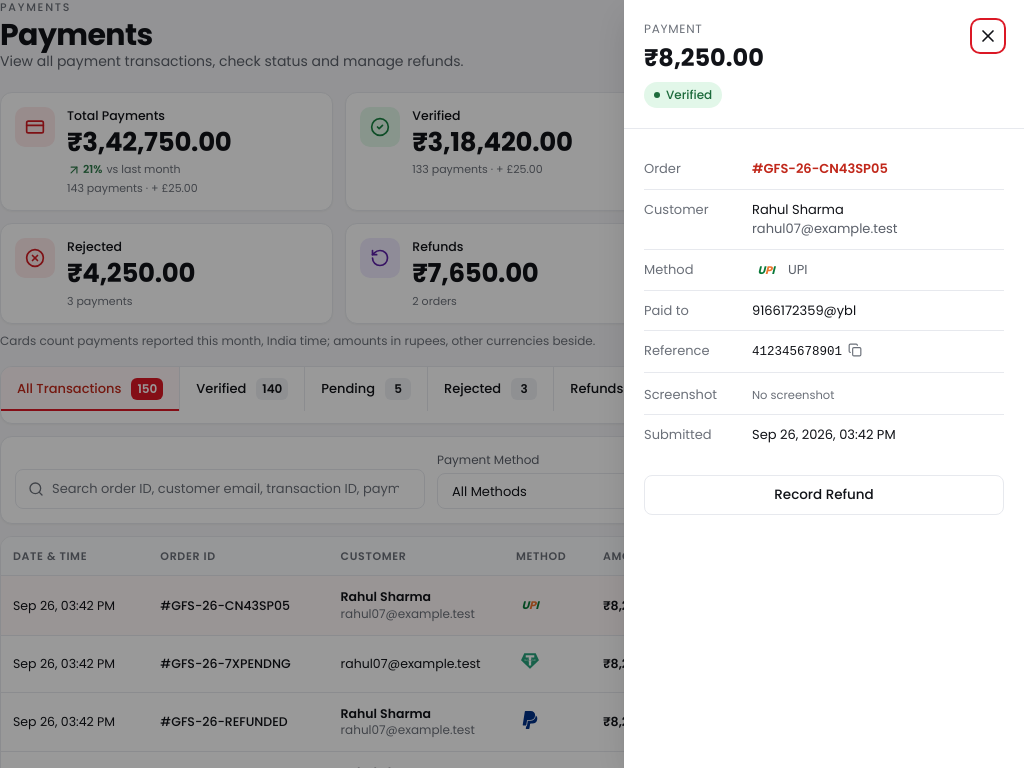
Payments page › records a refund for the full total, after saying what it does
The image size is (1024, 768).
Click the button "Record Refund": (824,495) [644, 475, 1004, 515]
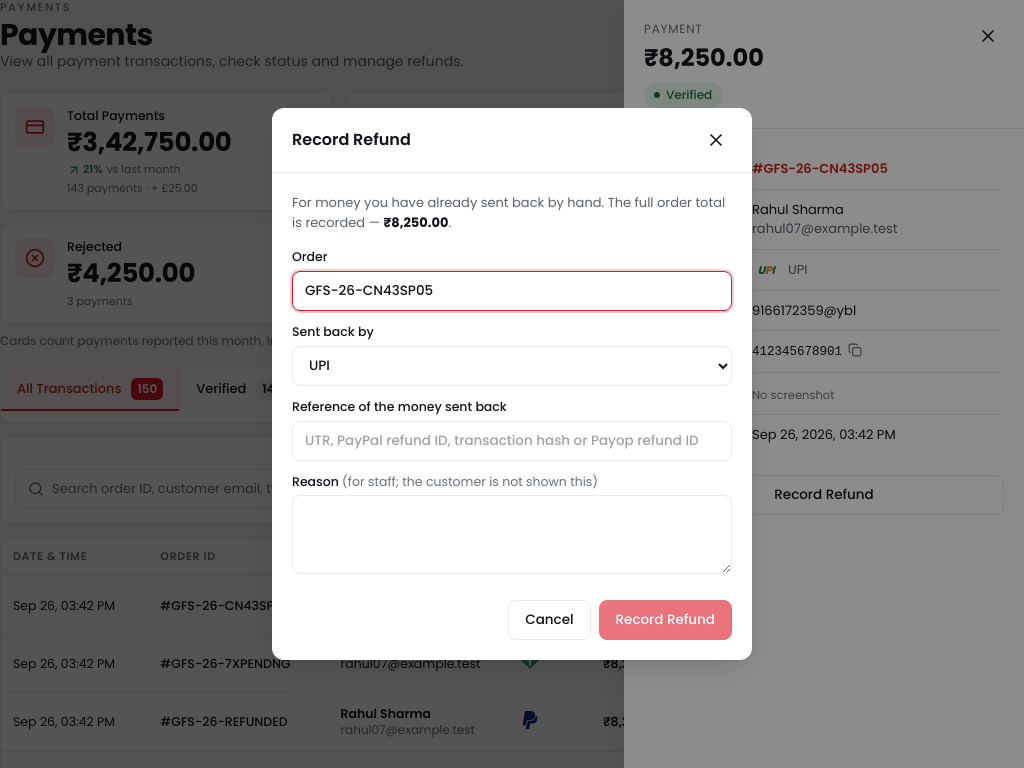
Now the field labelled "Order" holds "GFS-26-CN43SP05", box [292, 271, 732, 311]
In the field labelled "Reference of the money sent back": (512,440) [292, 420, 732, 460], type "UTR-BACK-1"
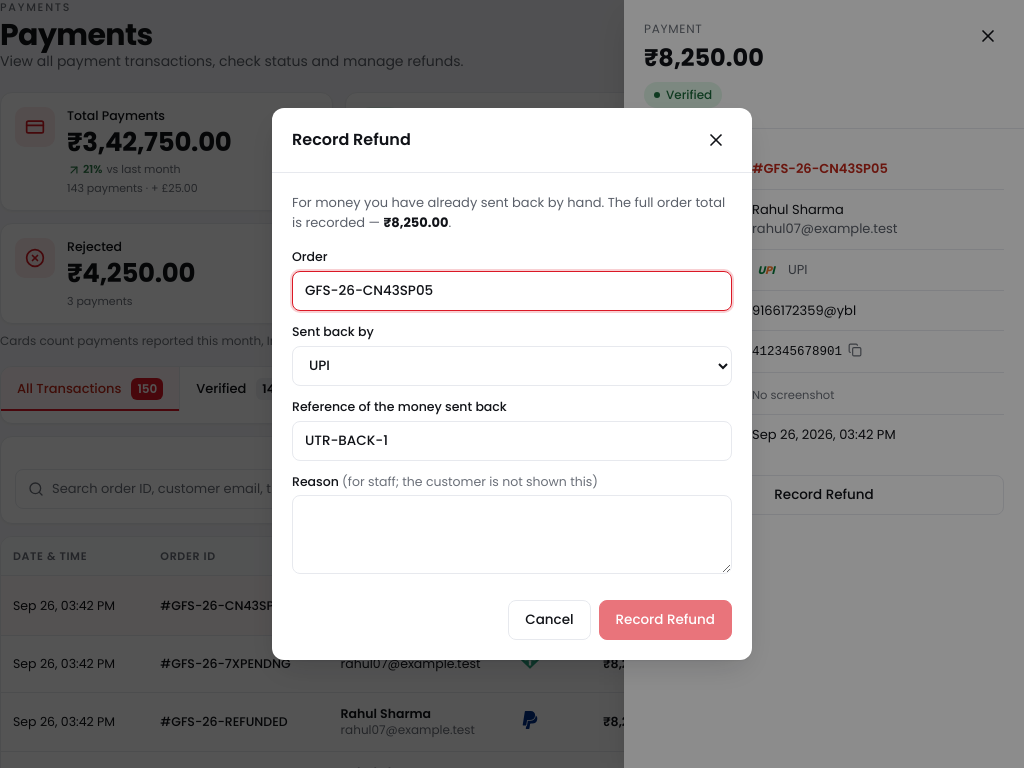
In the text box labelled "Reason (for staff; the customer is not shown this)": (512,535) [292, 495, 732, 574], type "Could not deliver"
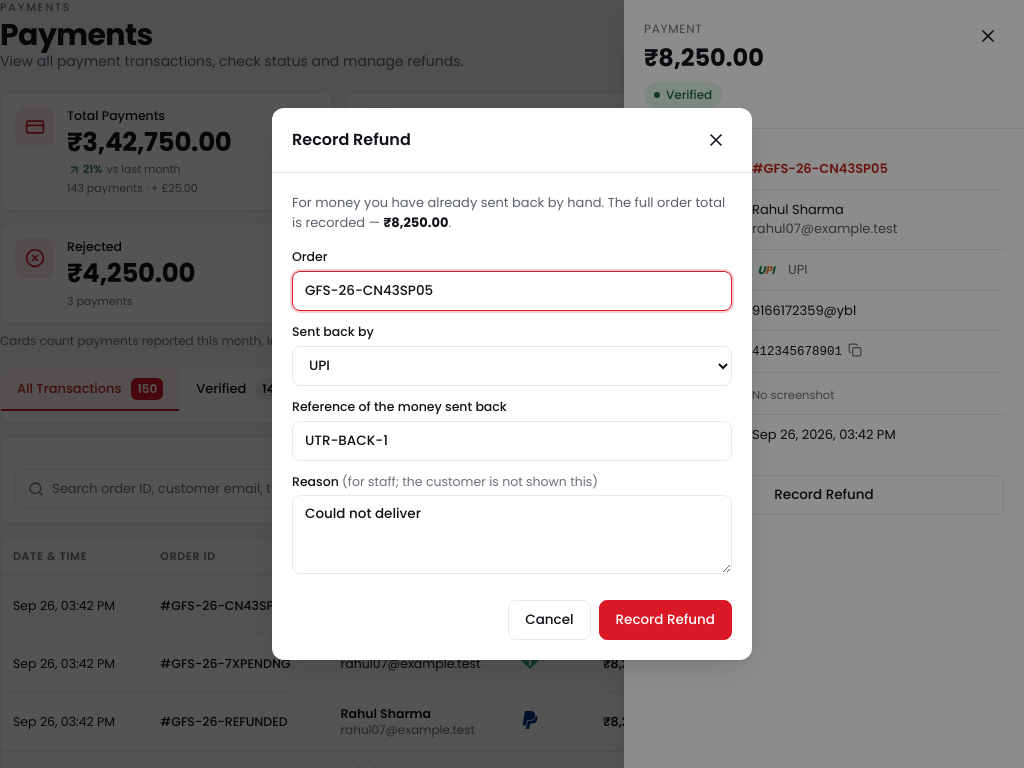
Click the button "Record Refund": (665,620) [598, 600, 732, 640]
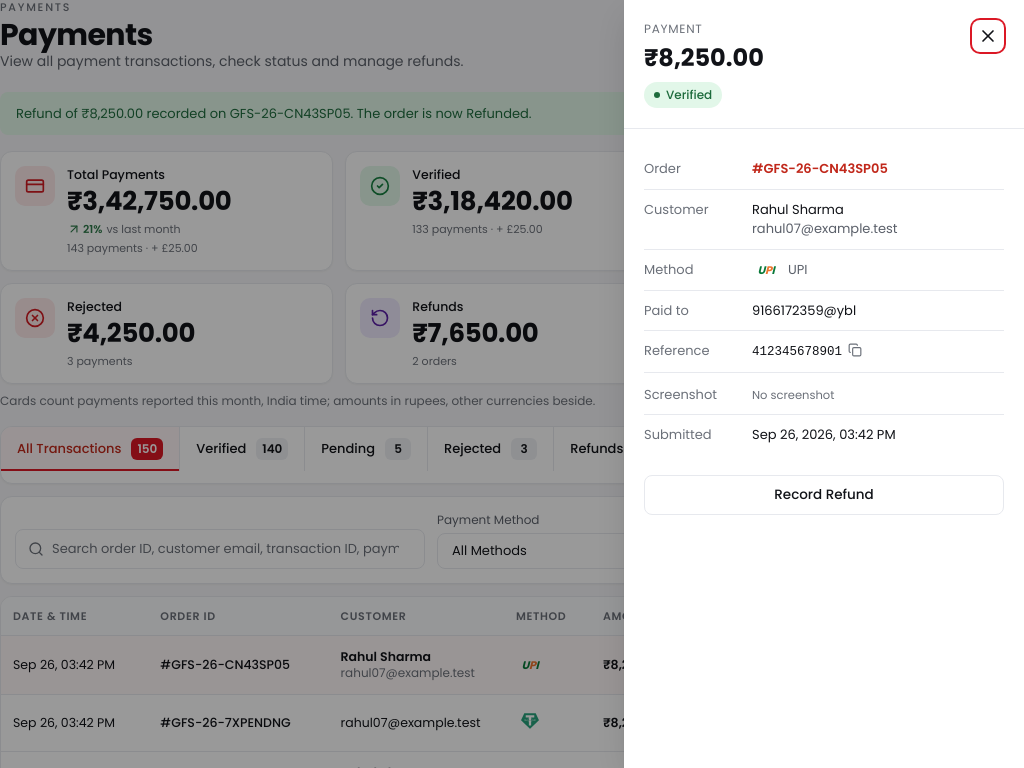
Now the message shows "Refund of ₹8,250.00 recorded on GFS-26-CN43SP05", box [16, 104, 532, 123]
